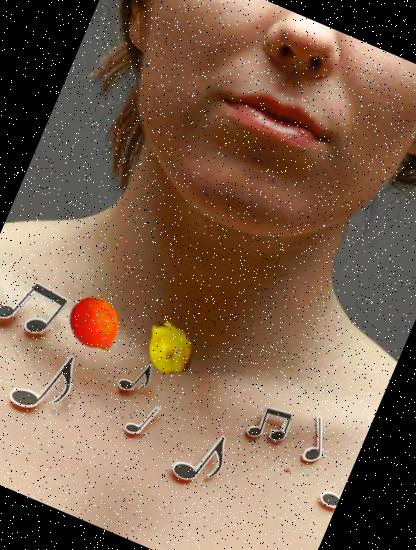Quince: (134, 312, 206, 386)
Tangelo: (58, 289, 130, 361)
